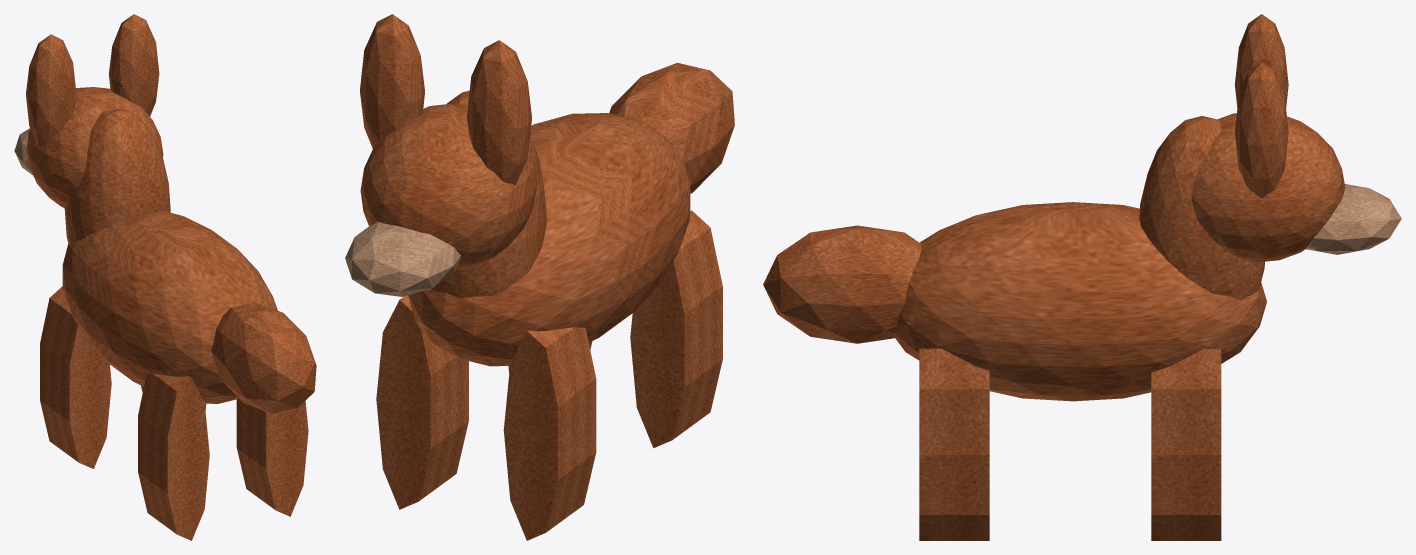
File: wildlight_fox_textured.glb
The picture shows the model from 3 angles, left to right: view 1: azimuth 30°, elevation 25°; view 2: azimuth 150°, elevation 25°; view 3: azimuth 270°, elevation 25°; orthographic projection. The views are drawn at different scales.
Visible parts, largest first — view 1: torso, leg-10.44, neck, leg-1-0.42, tail, leg10.44, head, ear-1, ear1, muzzle; view 2: torso, head, leg-1-0.42, leg-10.44, leg1-0.42, tail, ear-1, ear1, muzzle, neck; view 3: torso, tail, head, leg10.44, leg1-0.42, neck, ear1, muzzle, ear-1.
Part boxes in pixels (x1,y1,x2,y2): torso: (62,211,277,403); leg-10.44: (138,373,209,540); neck: (64,108,170,244); leg-1-0.42: (40,286,111,468); tail: (211,302,316,413); leg10.44: (236,399,308,516); head: (26,87,163,207); ear-1: (26,34,76,146); ear1: (108,14,159,116); muzzle: (14,128,32,174); torso: (408,113,690,366); head: (360,104,537,270); leg-1-0.42: (503,327,596,540); leg-10.44: (630,210,722,448); leg1-0.42: (376,295,468,509); tail: (609,62,734,193); ear-1: (467,40,531,184); ear1: (360,14,424,148); muzzle: (345,221,460,296); neck: (431,90,546,297); torso: (893,202,1266,401); tail: (763,225,921,343); head: (1191,113,1345,262); leg10.44: (919,348,989,540); leg1-0.42: (1151,348,1221,540); neck: (1139,116,1264,300); ear1: (1234,62,1288,198); muzzle: (1306,184,1401,254); ear-1: (1234,14,1288,107).
Bounding box in the file's own units: 0.76 × 1.93 × 2.37.
Materials: 2 (2 with a texture image).
